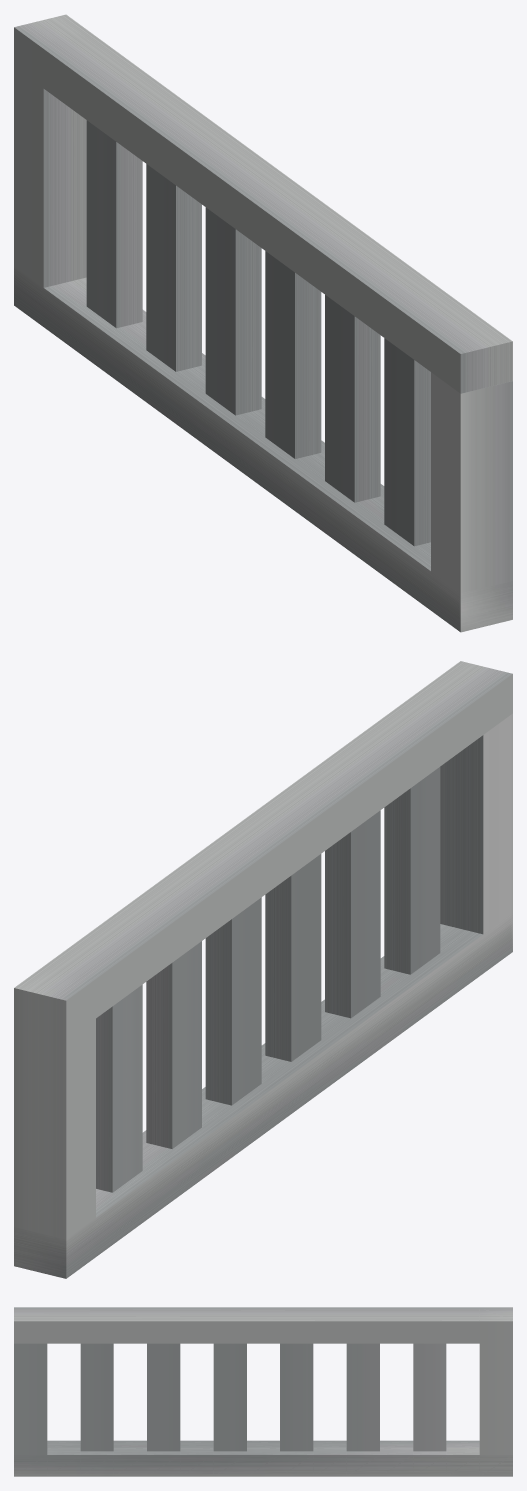
Rendered from ventilacion2.fbx.
The picture shows the model from 3 angles, top to bottom: view 1: azimuth 30°, elevation 25°; view 2: azimuth 150°, elevation 25°; view 3: azimuth 270°, elevation 25°; orthographic projection. The views are drawn at different scales.
Visible parts, largest first — view 1: Cube.011; view 2: Cube.011; view 3: Cube.011.
Boxes of the visible parts, <box> form: Cube.011: <box>14,14,512,632</box>; Cube.011: <box>14,661,512,1278</box>; Cube.011: <box>14,1307,512,1476</box>.
Bounding box in the file's own units: 54 × 275 × 800.
Materials: 1 (1 with a texture image).
